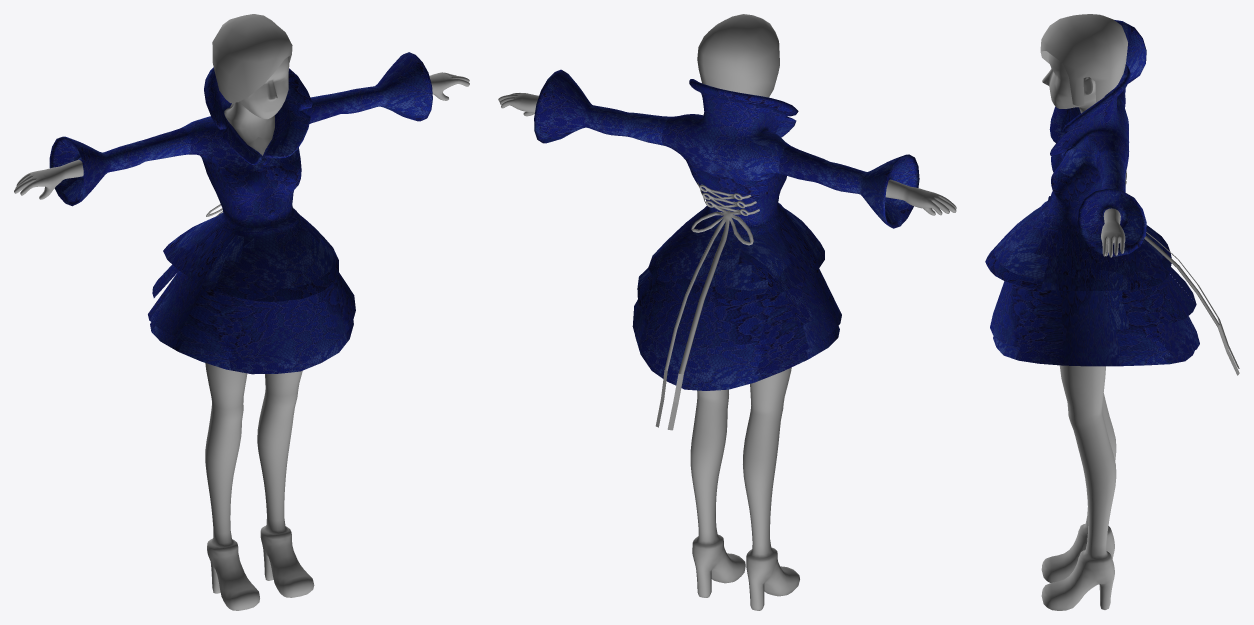
The model's file is estelle.obj.
3 views of the same model, side by side, from view 1: azimuth 30°, elevation 25°; view 2: azimuth 150°, elevation 25°; view 3: azimuth 270°, elevation 25° (orthographic).
Parts seen in each view (by area): view 1: estelle; view 2: estelle; view 3: estelle.
Part boxes in pixels (bbox=[...]): estelle: bbox=[14, 14, 469, 610]; estelle: bbox=[498, 14, 956, 610]; estelle: bbox=[985, 14, 1239, 610].
Size of the model in its own units: 23.73 by 28.53 by 11.39.
2 materials, 1 textured.
